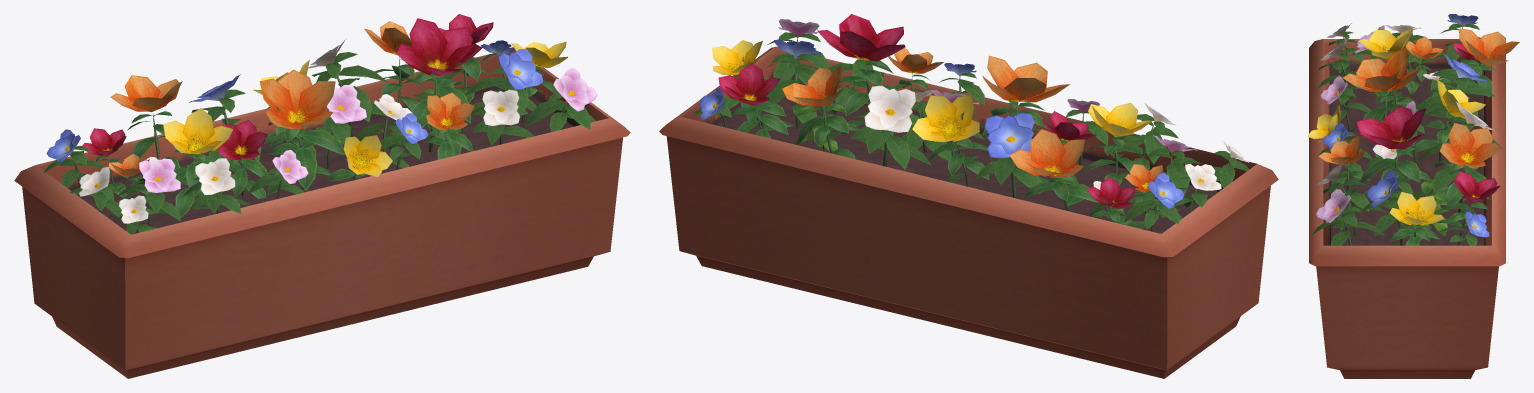
File: set_planter_04.fbx
The picture shows the model from 3 angles, left to right: view 1: azimuth 30°, elevation 25°; view 2: azimuth 150°, elevation 25°; view 3: azimuth 270°, elevation 25°; orthographic projection. The views are drawn at different scales.
Parts seen in each view (by area): view 1: set_planter_04; view 2: set_planter_04; view 3: set_planter_04.
Boxes of the visible parts, x1,y1,x2,y2 form: set_planter_04: [14, 14, 630, 378]; set_planter_04: [659, 14, 1278, 378]; set_planter_04: [1307, 14, 1519, 378].
Size of the model in its own units: 65.71 by 30.07 by 26.75.
